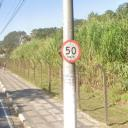speed_limit_50: (61, 39, 82, 63)
